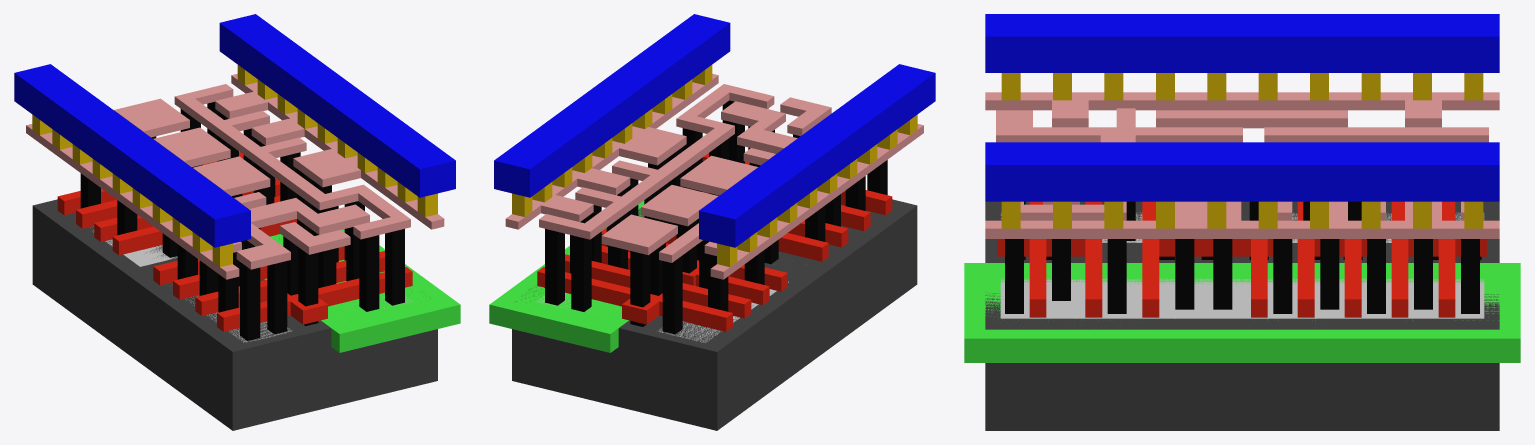
The model's file is sky130_fd_sc_hd__a31oi_2.obj.
3 renders of one model, left to right at view 1: azimuth 30°, elevation 25°; view 2: azimuth 150°, elevation 25°; view 3: azimuth 270°, elevation 25°, orthographic. The views are drawn at different scales.
Parts seen in each view (by area): view 1: subs, metal1, li, licon, poly, nwell, mcon, diff; view 2: subs, metal1, li, licon, poly, nwell, mcon, diff; view 3: metal1, subs, li, nwell, licon, poly, mcon, tap.
Boxes of the visible parts, bbox=[...] form: subs: bbox=[32, 199, 437, 430]; metal1: bbox=[14, 14, 455, 247]; li: bbox=[26, 73, 444, 279]; licon: bbox=[80, 102, 404, 340]; poly: bbox=[57, 152, 412, 331]; nwell: bbox=[239, 151, 460, 352]; mcon: bbox=[32, 65, 437, 266]; diff: bbox=[90, 226, 292, 342]; subs: bbox=[512, 192, 917, 430]; metal1: bbox=[494, 14, 935, 247]; li: bbox=[505, 73, 923, 279]; licon: bbox=[545, 100, 887, 334]; poly: bbox=[537, 153, 892, 331]; nwell: bbox=[489, 200, 644, 352]; mcon: bbox=[512, 65, 917, 266]; diff: bbox=[658, 281, 788, 342]; metal1: bbox=[985, 14, 1499, 201]; subs: bbox=[985, 201, 1499, 430]; li: bbox=[985, 92, 1499, 238]; nwell: bbox=[964, 263, 1520, 362]; licon: bbox=[1005, 201, 1481, 313]; poly: bbox=[997, 201, 1487, 317]; mcon: bbox=[1001, 73, 1483, 228]; tap: bbox=[1000, 278, 1484, 318].
Size of the model in its own units: 3.2 by 2.74 by 4.98.
